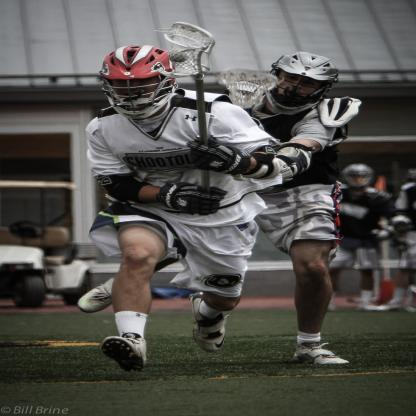Helmet: (95, 42, 186, 122), (262, 52, 340, 116), (342, 164, 374, 189)
